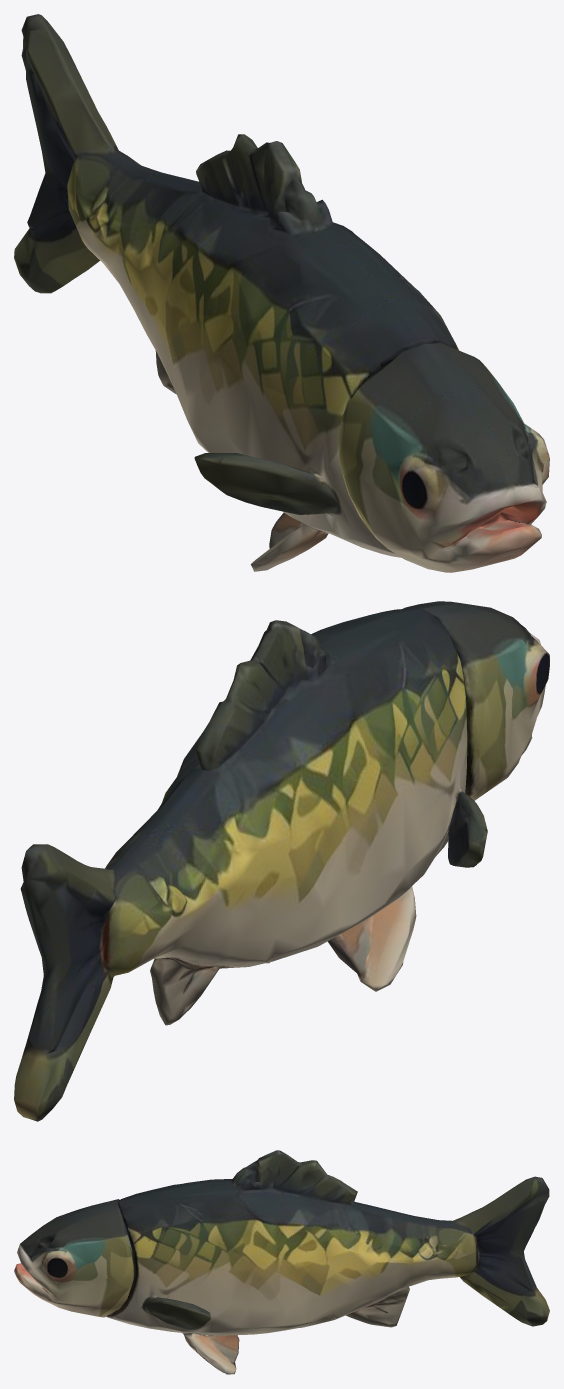
File: fishBass.glb
The picture shows the model from 3 angles, top to bottom: view 1: azimuth 30°, elevation 25°; view 2: azimuth 150°, elevation 25°; view 3: azimuth 270°, elevation 25°; orthographic projection. The views are drawn at different scales.
Visible parts, largest first — view 1: tripo_node_09df0451-e7e7-4cb6-b24d-ab649a415593; view 2: tripo_node_09df0451-e7e7-4cb6-b24d-ab649a415593; view 3: tripo_node_09df0451-e7e7-4cb6-b24d-ab649a415593.
Boxes of the visible parts, bbox=[...] form: tripo_node_09df0451-e7e7-4cb6-b24d-ab649a415593: bbox=[14, 14, 549, 572]; tripo_node_09df0451-e7e7-4cb6-b24d-ab649a415593: bbox=[14, 601, 549, 1121]; tripo_node_09df0451-e7e7-4cb6-b24d-ab649a415593: bbox=[14, 1150, 549, 1374].
Bounding box in the file's own units: 0.7877 × 1 × 2.32.
Materials: 1 (1 with a texture image).
